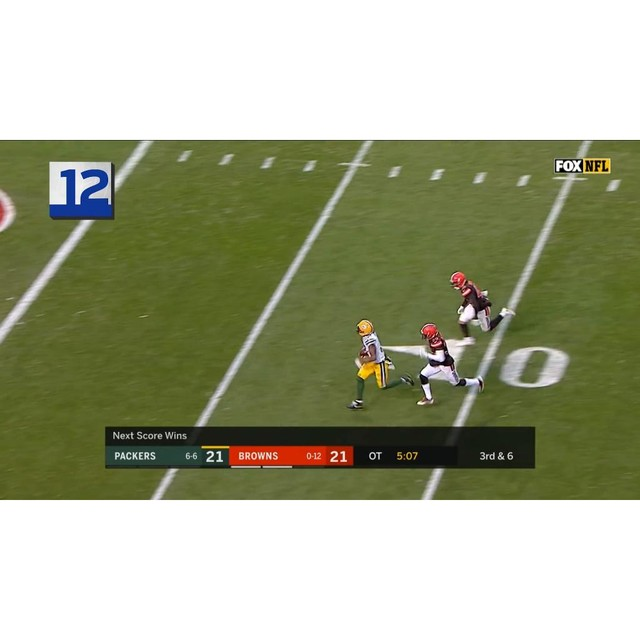american-football-player: (348, 319, 412, 409), (417, 322, 483, 407), (448, 271, 514, 344)
